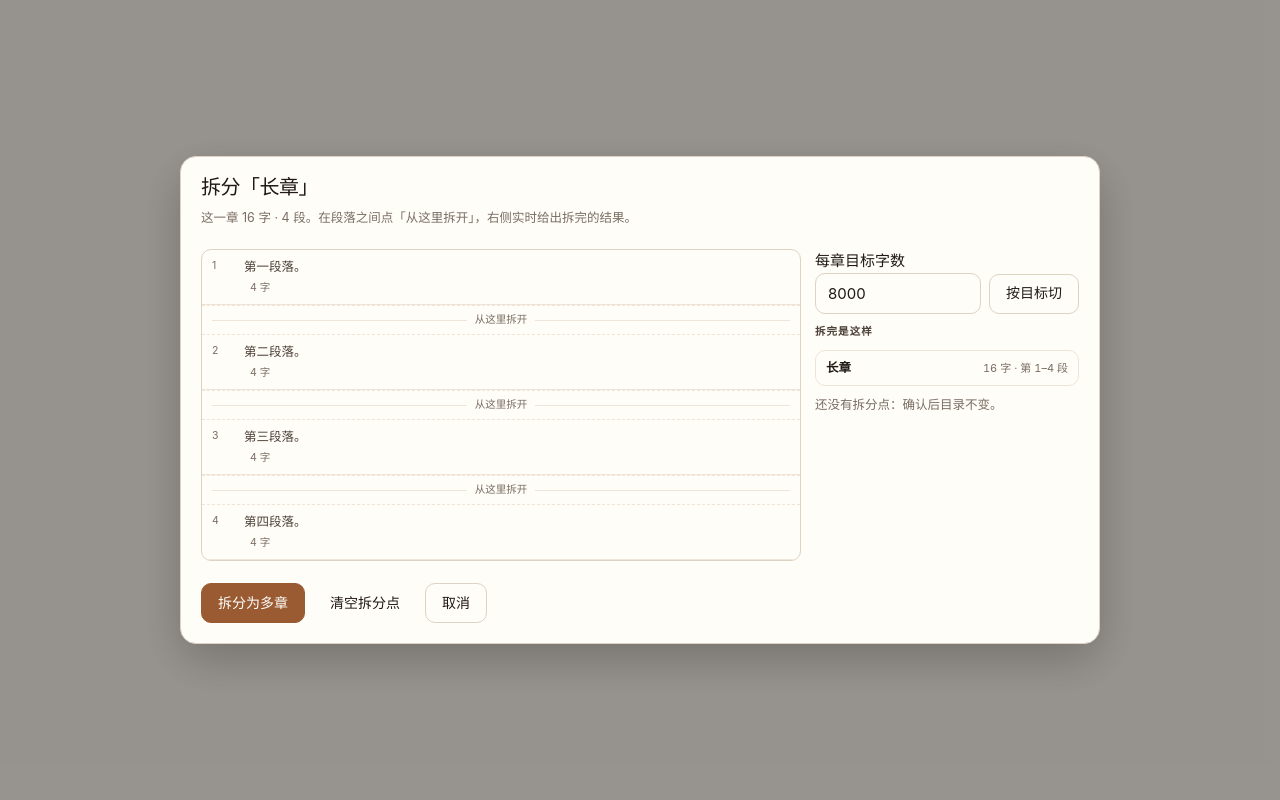
拆分章节面板 › 点一处拆分点后预览两章，字数各自核算
Click the button with test id "split-cut-1" at (501, 320), box [202,305,800,335]
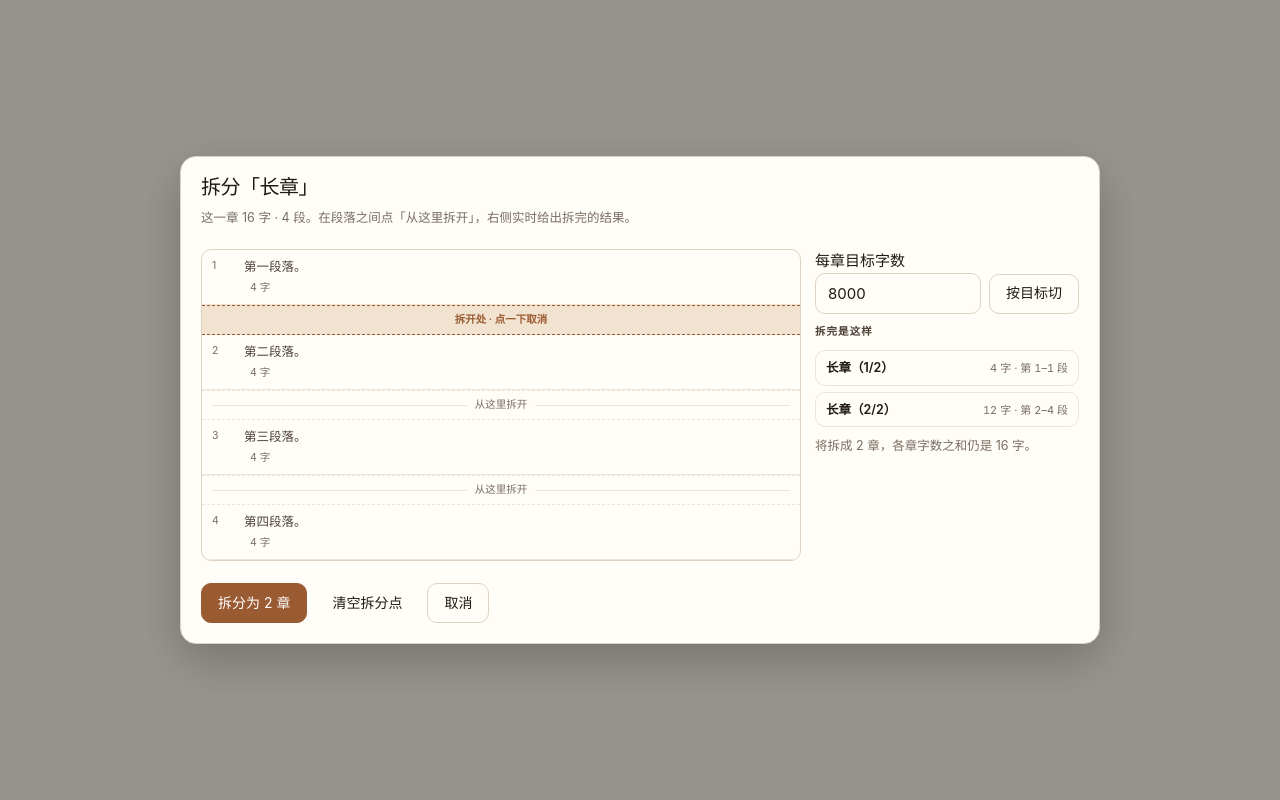
Check: the button with test id "split-confirm" reads "拆分为 2 章", box [201,583,307,623]
Check: the text with test id "split-summary" shows "16 字", box [815,438,1037,453]
Check: the text "长章（1/2）" is shown, box [826,358,894,378]
